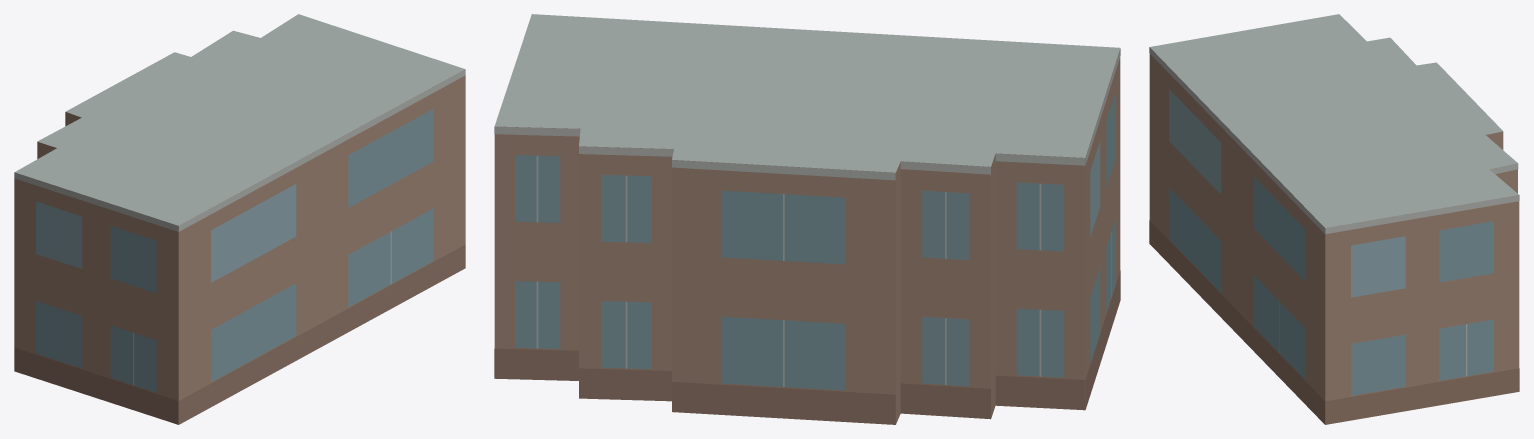
File: survey-upis-32851311.glb
3 renders of one model, left to right at view 1: azimuth 30°, elevation 25°; view 2: azimuth 150°, elevation 25°; view 3: azimuth 270°, elevation 25°, orthographic. The views are drawn at different scales.
Parts seen in each view (by area): view 1: survey-upis-32851311.tmp; view 2: survey-upis-32851311.tmp; view 3: survey-upis-32851311.tmp.
Part boxes in pixels (left/top/right/bottom): survey-upis-32851311.tmp: left=14, top=14, right=465, bottom=424; survey-upis-32851311.tmp: left=494, top=14, right=1120, bottom=424; survey-upis-32851311.tmp: left=1149, top=14, right=1519, bottom=424.
Bounding box in the file's own units: 18.45 × 7.9 × 13.47.
